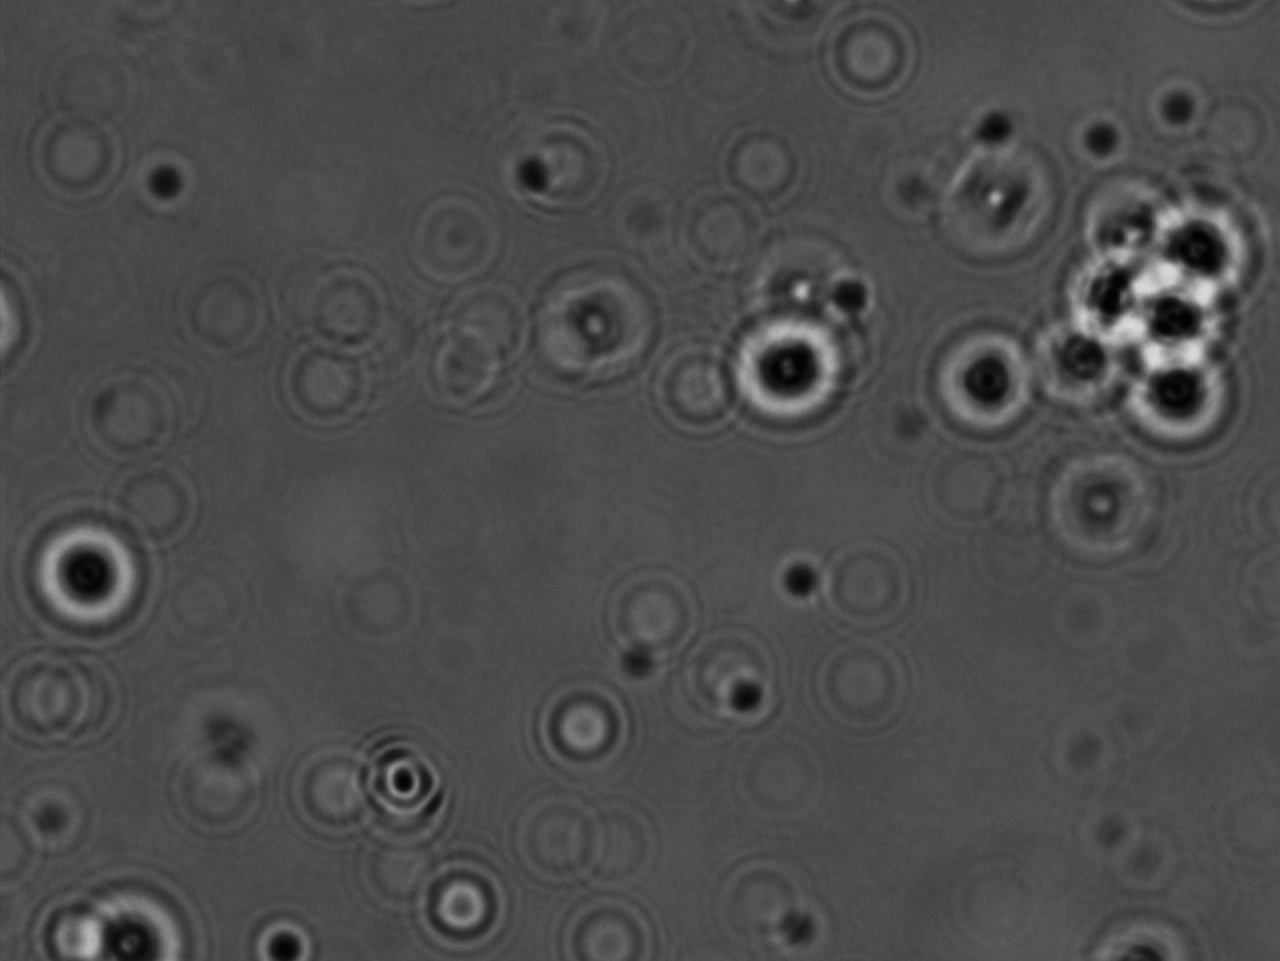depth:-16: (715, 310, 856, 447), (21, 510, 167, 643), (926, 322, 1043, 453), (1123, 253, 1242, 369), (1117, 339, 1231, 460), (75, 873, 215, 961), (1139, 191, 1260, 291)
